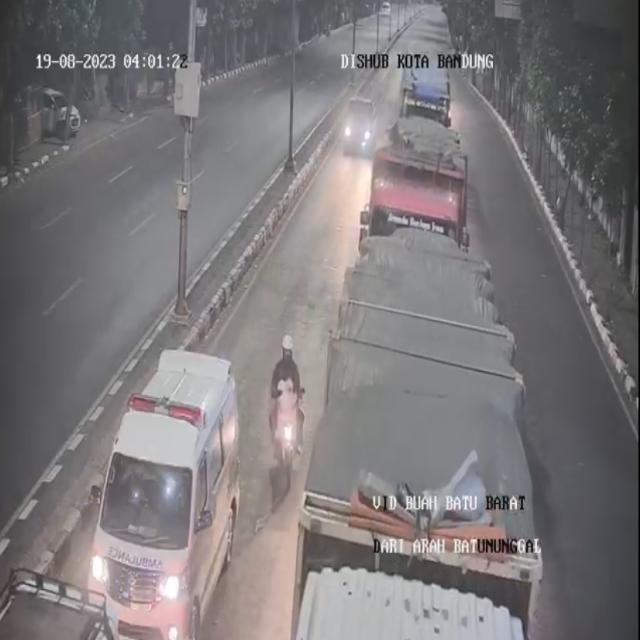ambulance: (88, 349, 239, 639)
cars: (344, 97, 377, 156)
motorcycle: (263, 330, 309, 500)
truck: (294, 228, 543, 640), (361, 116, 470, 250), (398, 53, 452, 125)
